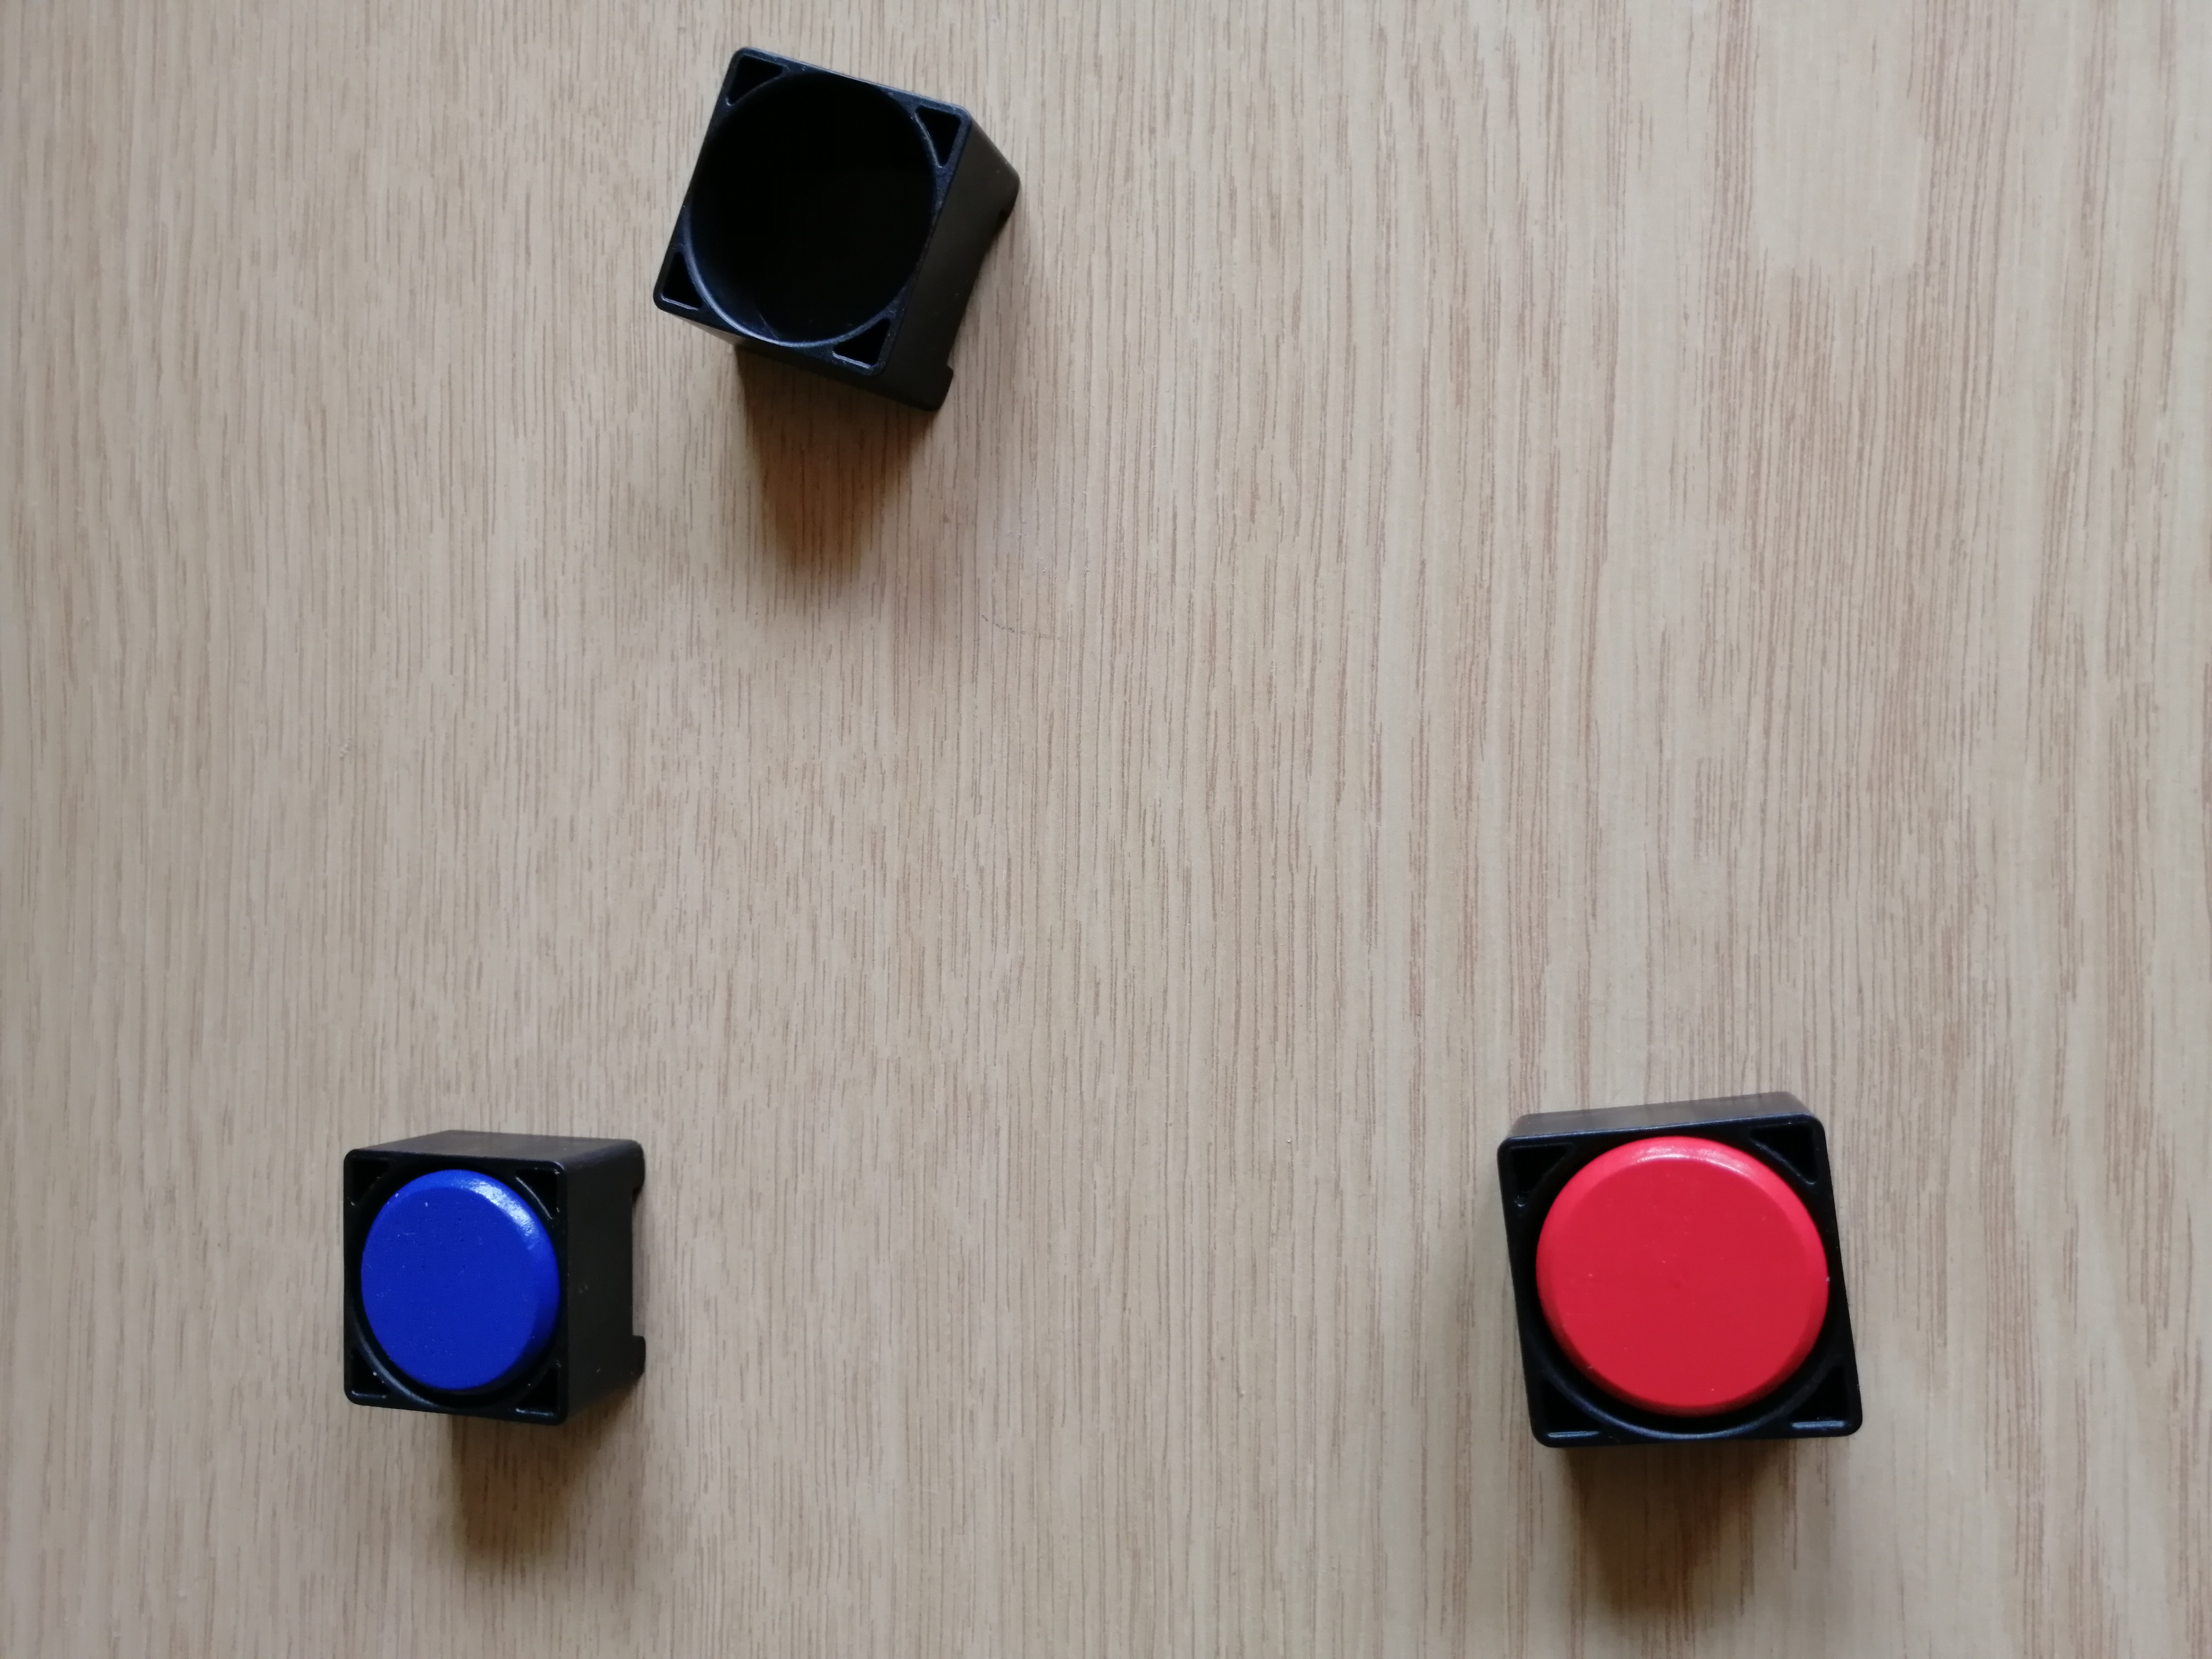Behaelter: (639, 44, 1022, 415), (1491, 1098, 1862, 1448), (341, 1129, 632, 1424)
WerkStueck: (1541, 1129, 1818, 1413), (357, 1169, 545, 1389)
